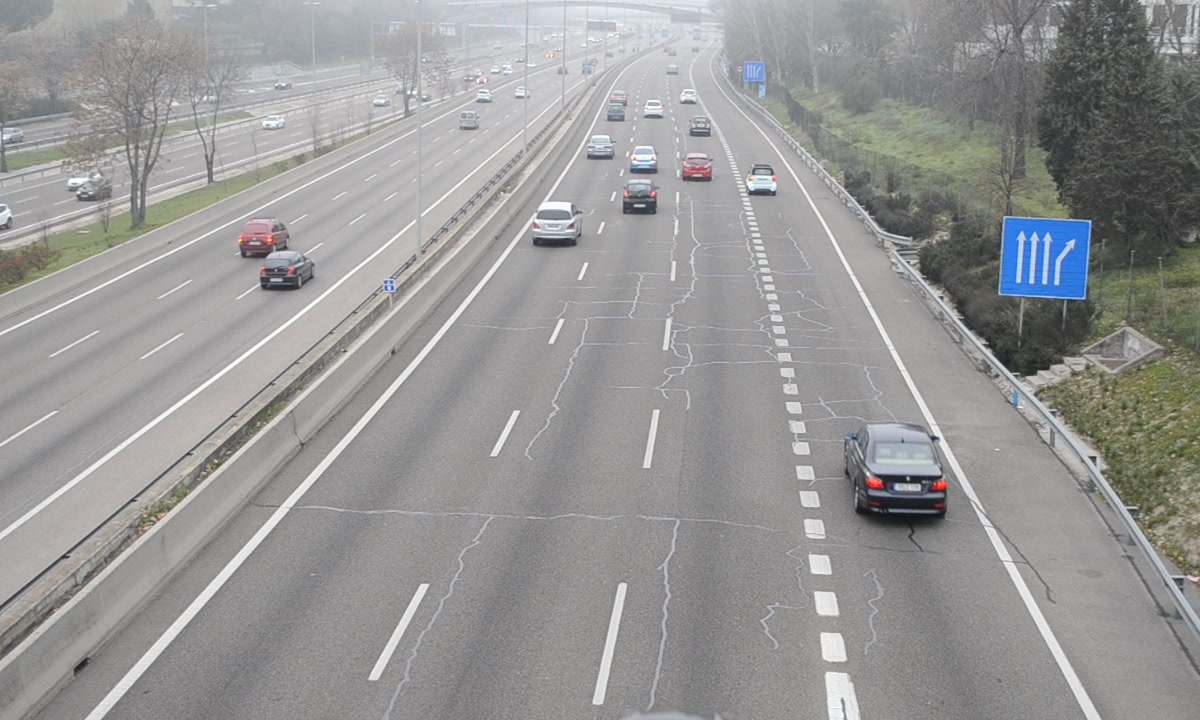car: (845, 424, 951, 520), (531, 200, 583, 245), (619, 178, 658, 217), (745, 161, 779, 197), (680, 152, 714, 184), (629, 145, 659, 174), (584, 134, 615, 160), (689, 114, 712, 138)
